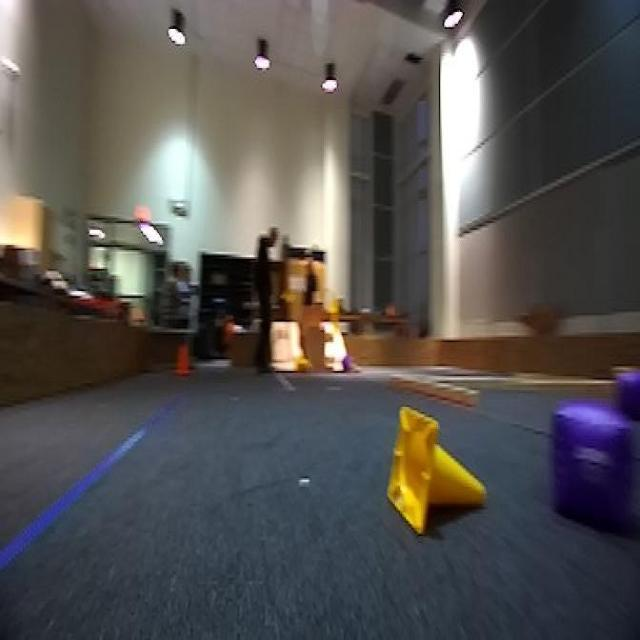frc_cone: (385, 404, 494, 542), (294, 356, 312, 376)
frc_cube: (549, 399, 640, 529), (609, 366, 639, 415), (342, 351, 353, 371)
